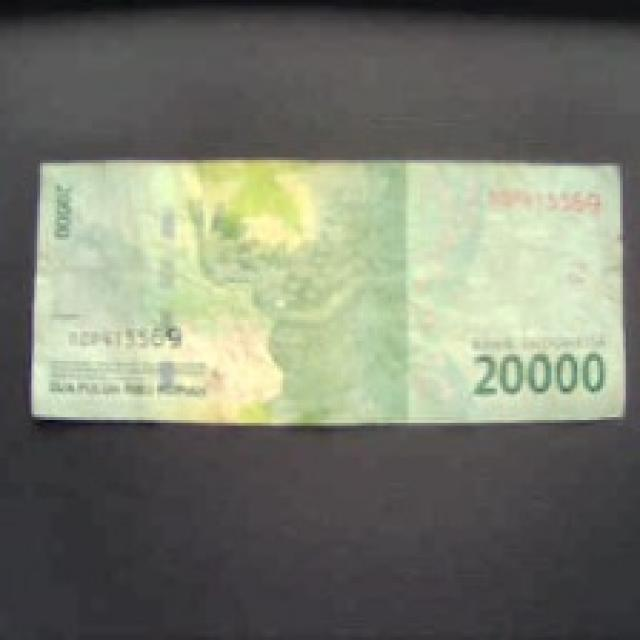dua puluh ribu rupiah: (23, 121, 640, 445)
